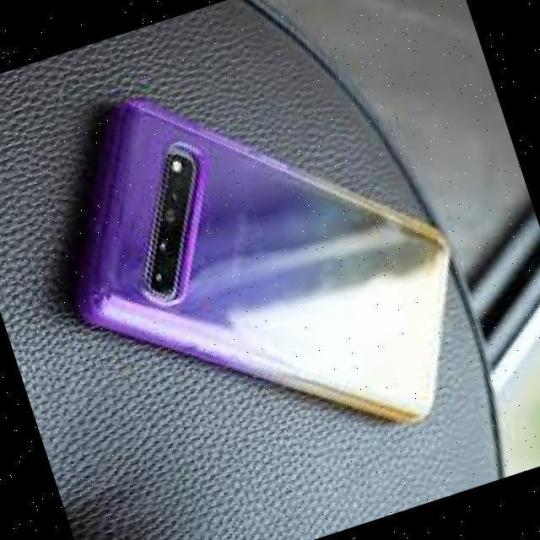phone: (62, 78, 466, 438)
